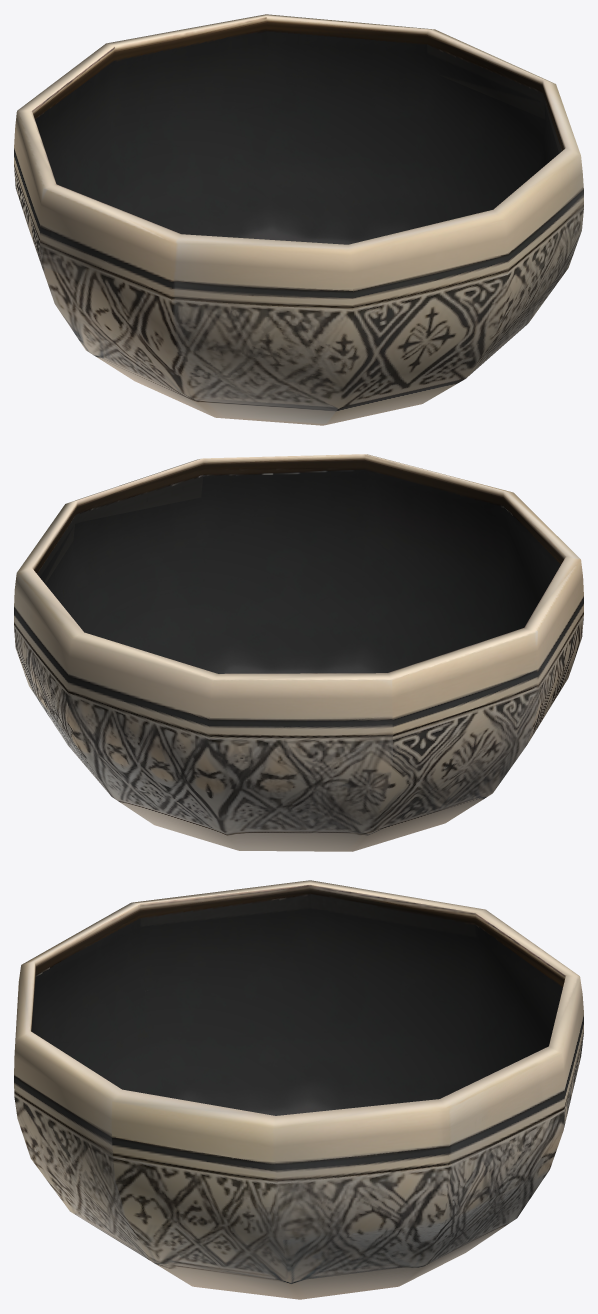
File: make_a_singing_bowl_for_meditation_it_has_to_have_a_metalic_look_to_it-2025-12-17-155544.glb
3 views of the same model, one above another, from view 1: azimuth 30°, elevation 25°; view 2: azimuth 150°, elevation 25°; view 3: azimuth 270°, elevation 25° (orthographic). The views are drawn at different scales.
Size of the model in its own units: 1.91 by 0.8926 by 1.86.
1 material, 1 textured.
